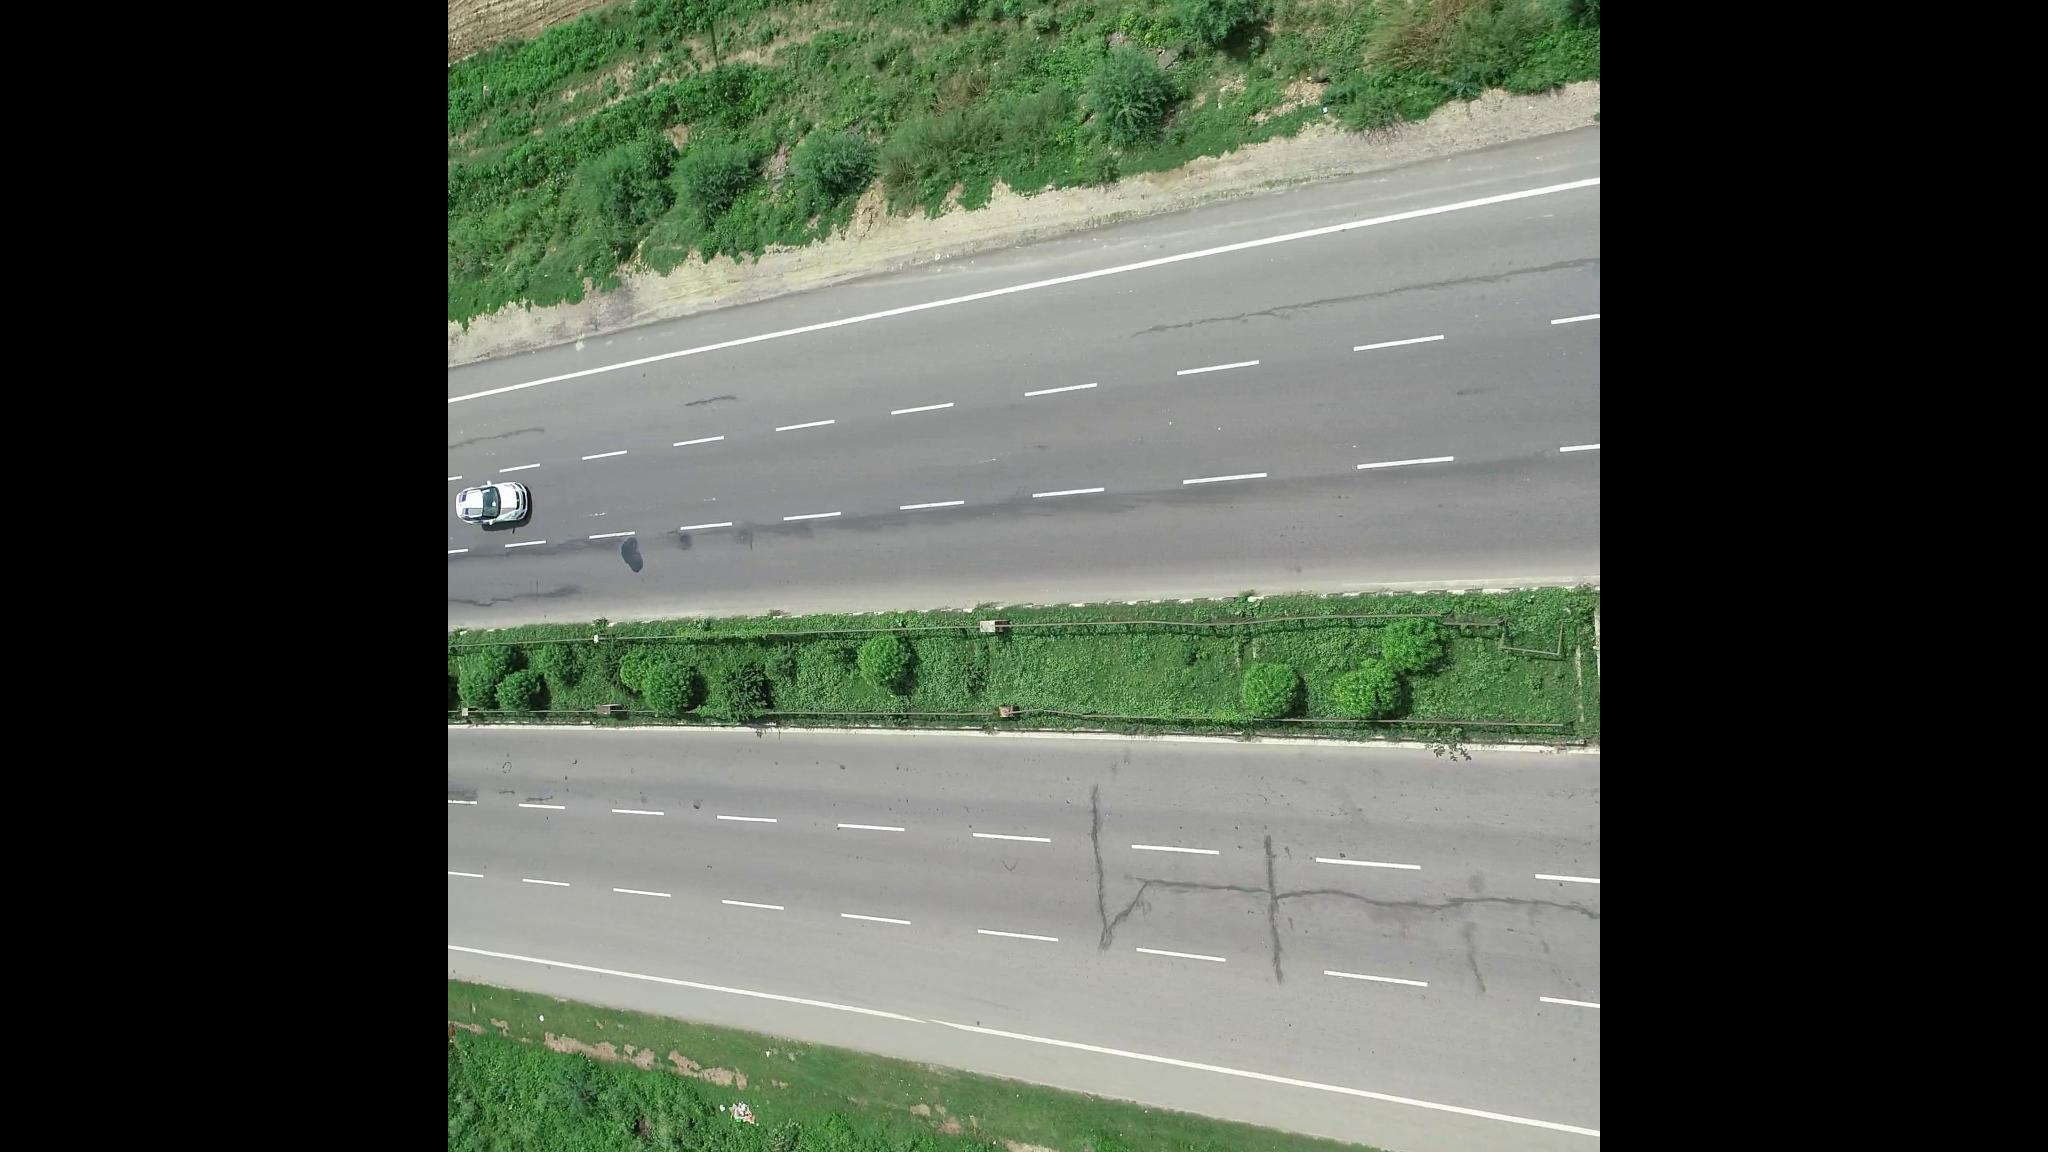Cracks: (1134, 249, 1594, 338), (1145, 866, 1575, 951)
